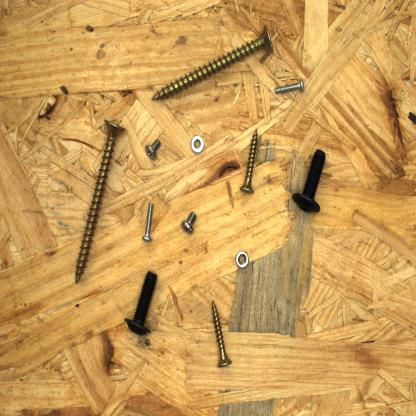screw: (150, 21, 278, 104), (71, 114, 128, 288), (289, 144, 330, 217), (122, 267, 160, 338), (210, 298, 236, 370), (238, 126, 260, 200), (271, 76, 307, 96), (141, 200, 157, 245), (178, 206, 200, 236), (142, 136, 165, 162)
